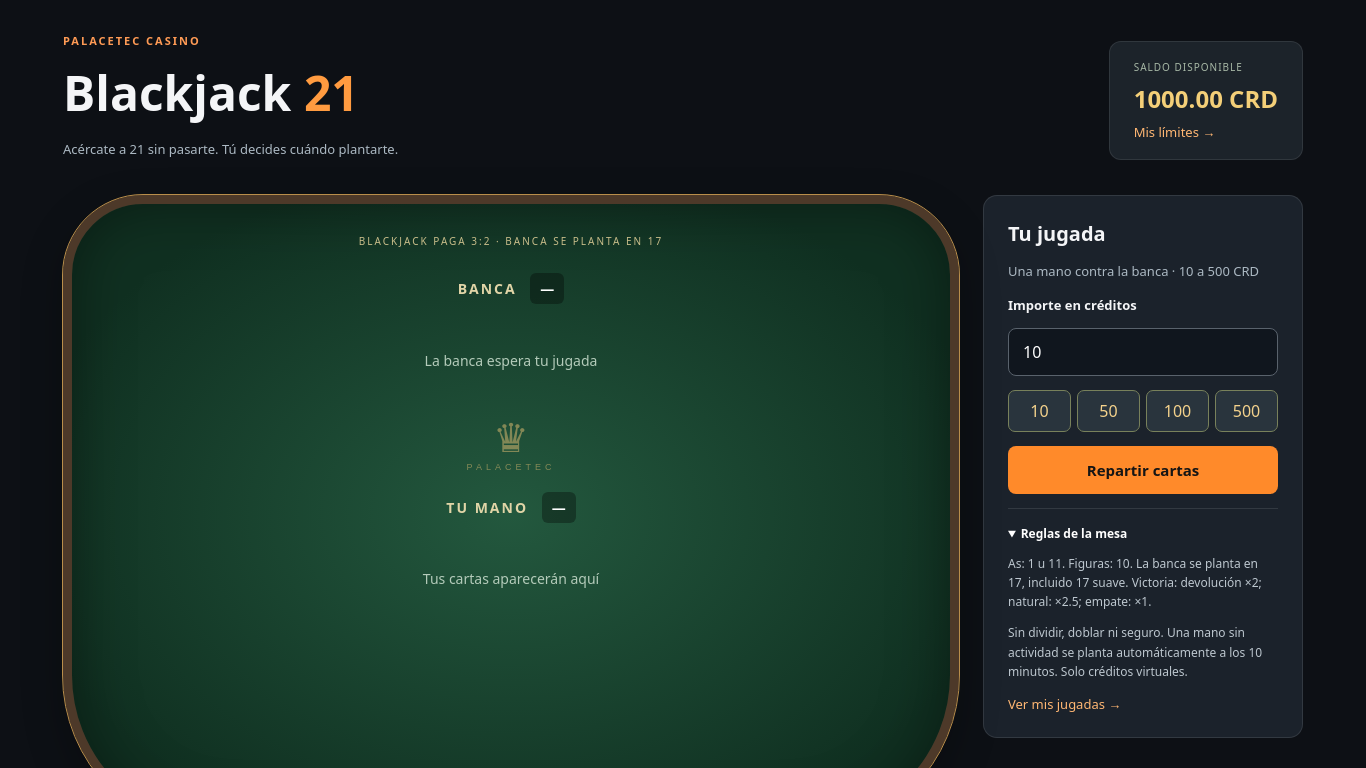
Scenario: reparte blackjack, conserva la carta oculta y permite plantarse
Click the button "Repartir cartas" at (1143, 470), box [1008,446,1278,494]
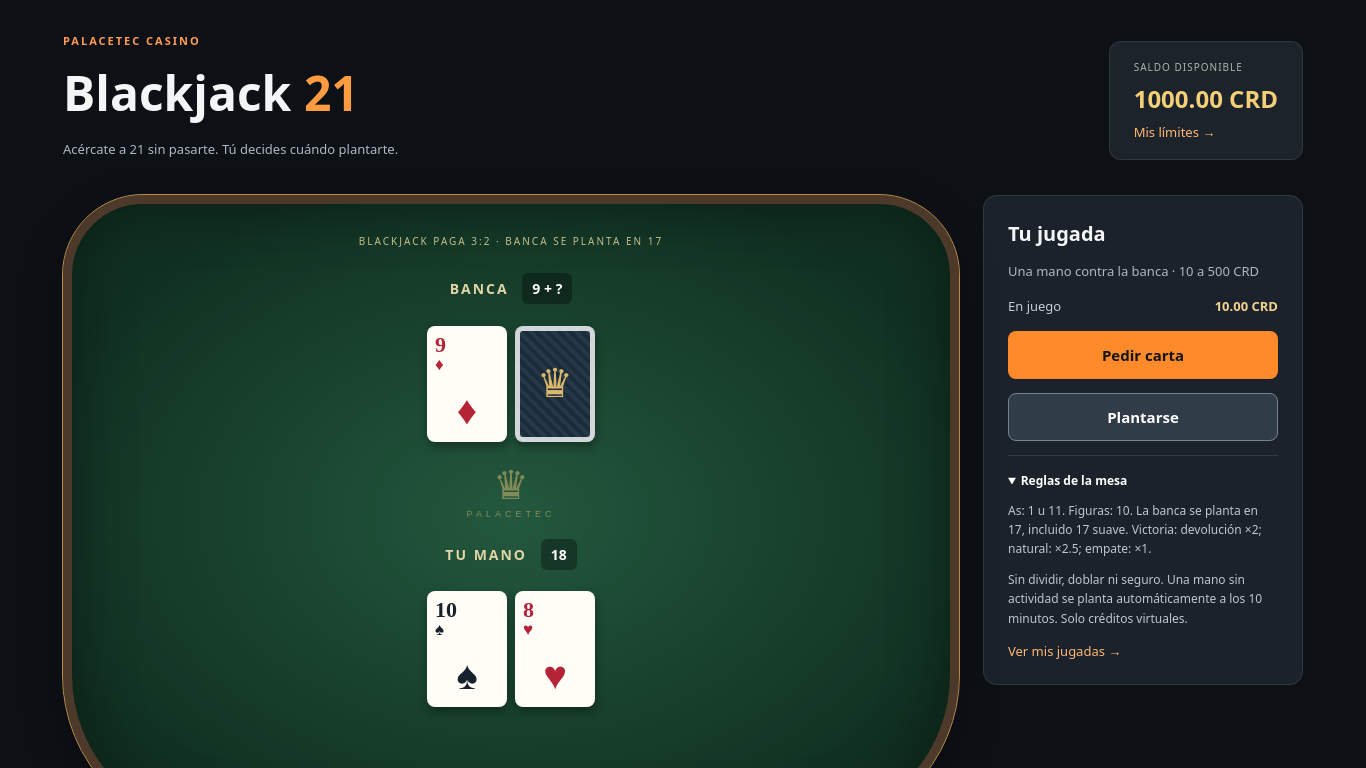
Result: the element named "Carta oculta de la banca" is shown at [515,326,595,442]
Click the button "Plantarse" at (1143, 417), box [1008,393,1278,441]
(page scrolled)
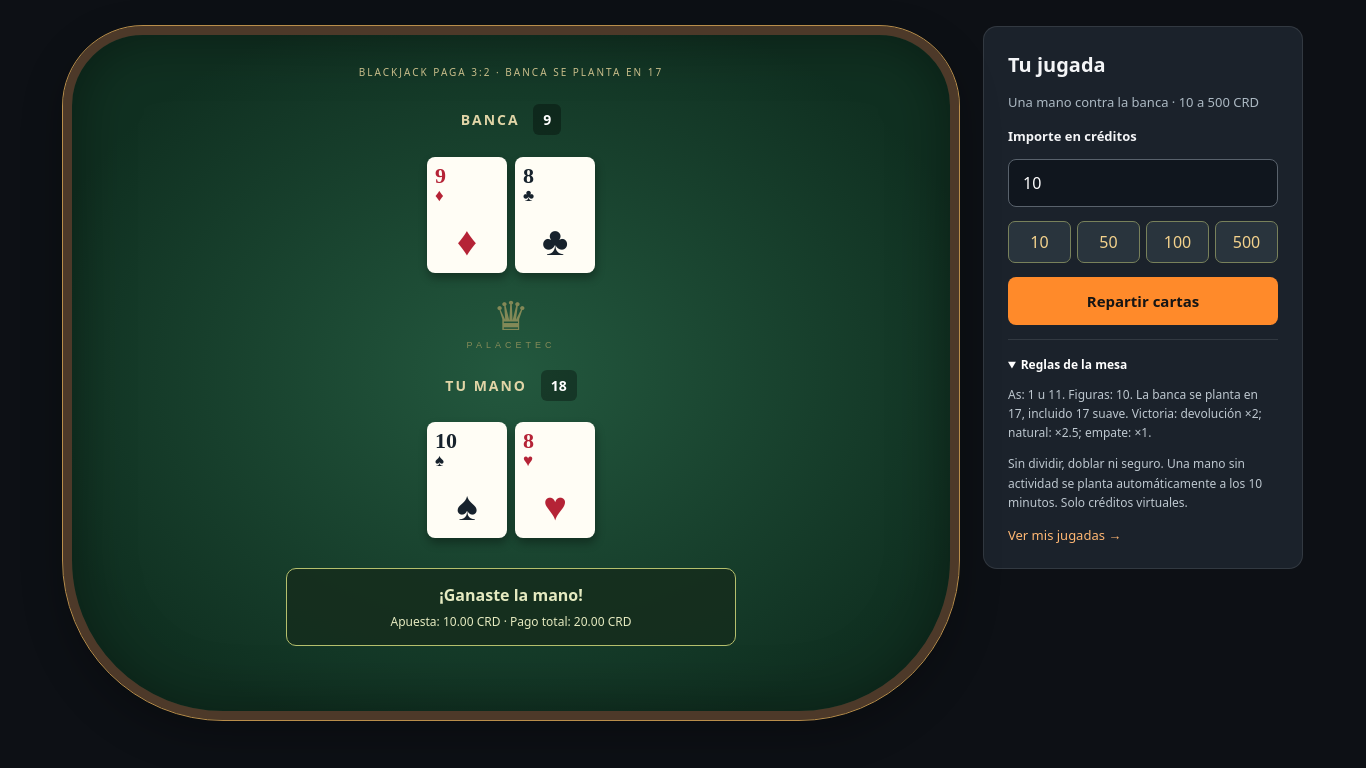
Result: the text "¡Ganaste la mano!" is shown at [439,584,583,606]
